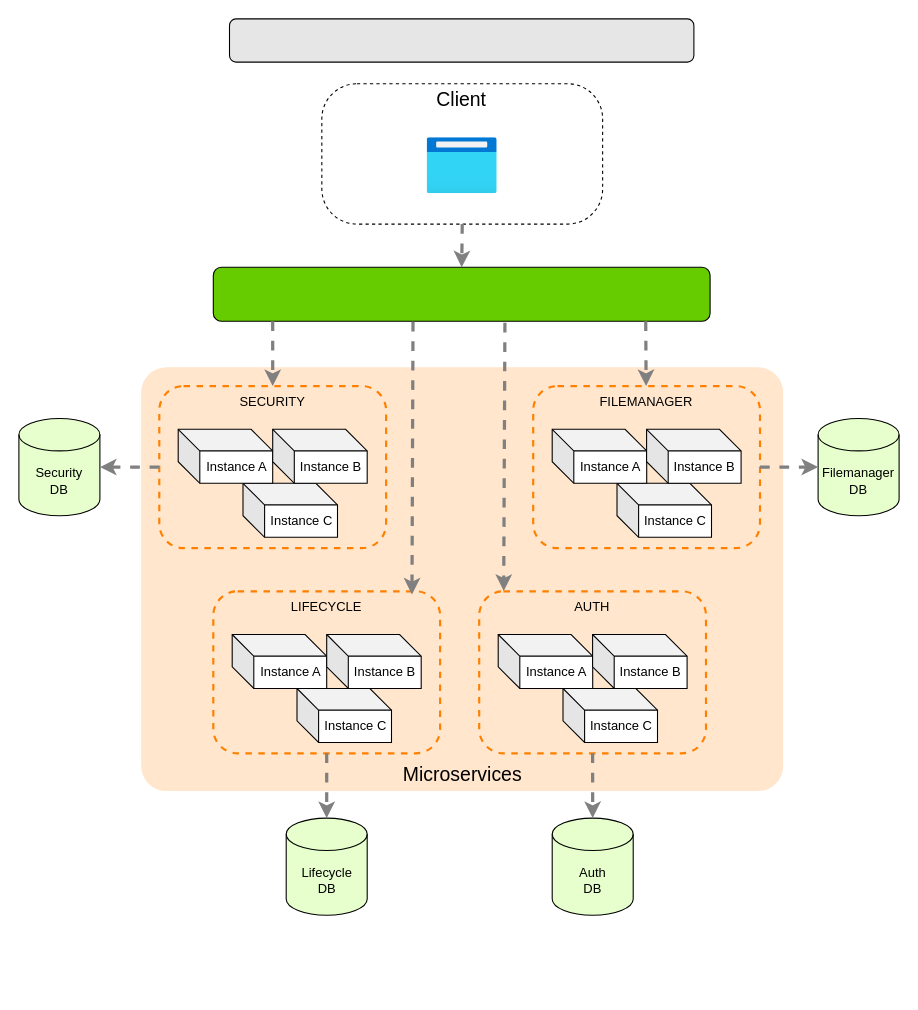
The diagram is 918 pixels wide and 1010 high, and some of its shapes have lost their labels. The shapes that lost their labels are listed below. From the top down, each one's centre as x and y in pixels, then its label:
[461,40]: CTHULHU Microservice Architecture
[462,165]: Browser
[461,293]: API Gateway
